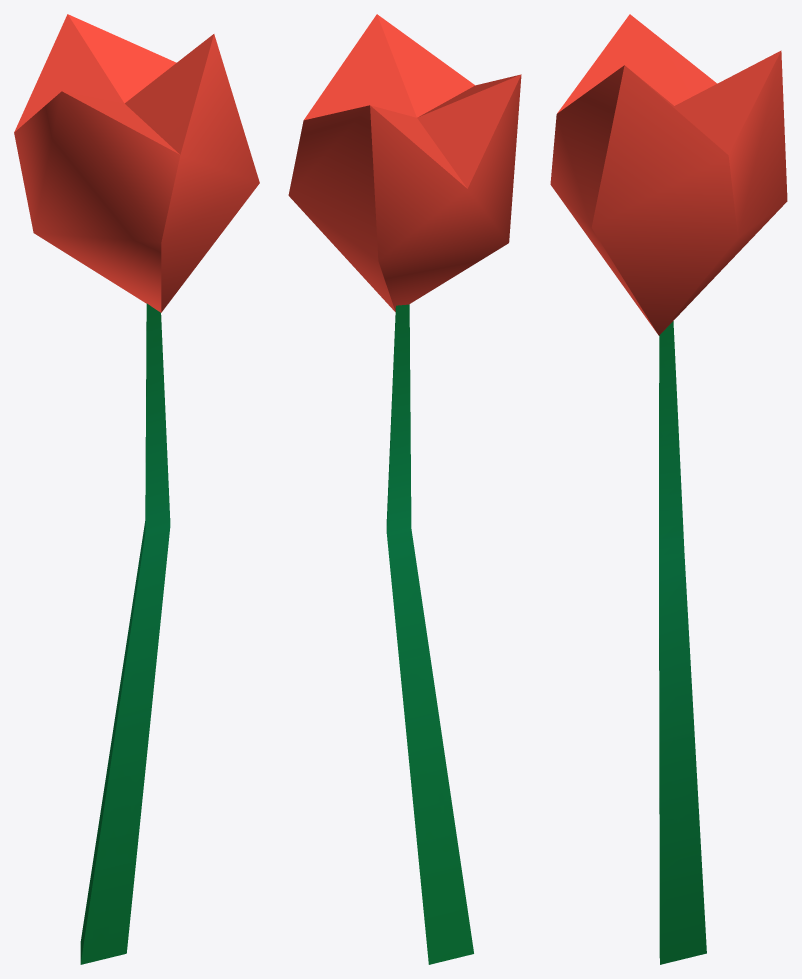
File: Flower2.fbx
The picture shows the model from 3 angles, left to right: view 1: azimuth 30°, elevation 25°; view 2: azimuth 150°, elevation 25°; view 3: azimuth 270°, elevation 25°; orthographic projection. The views are drawn at different scales.
Visible parts, largest first — view 1: Flower_2B; view 2: Flower_2B; view 3: Flower_2B.
Boxes of the visible parts, left/top/right/bottom form: Flower_2B: left=14, top=14, right=259, bottom=964; Flower_2B: left=288, top=14, right=521, bottom=964; Flower_2B: left=550, top=14, right=787, bottom=964.
Bounding box in the file's own units: 663 × 3022 × 695.
